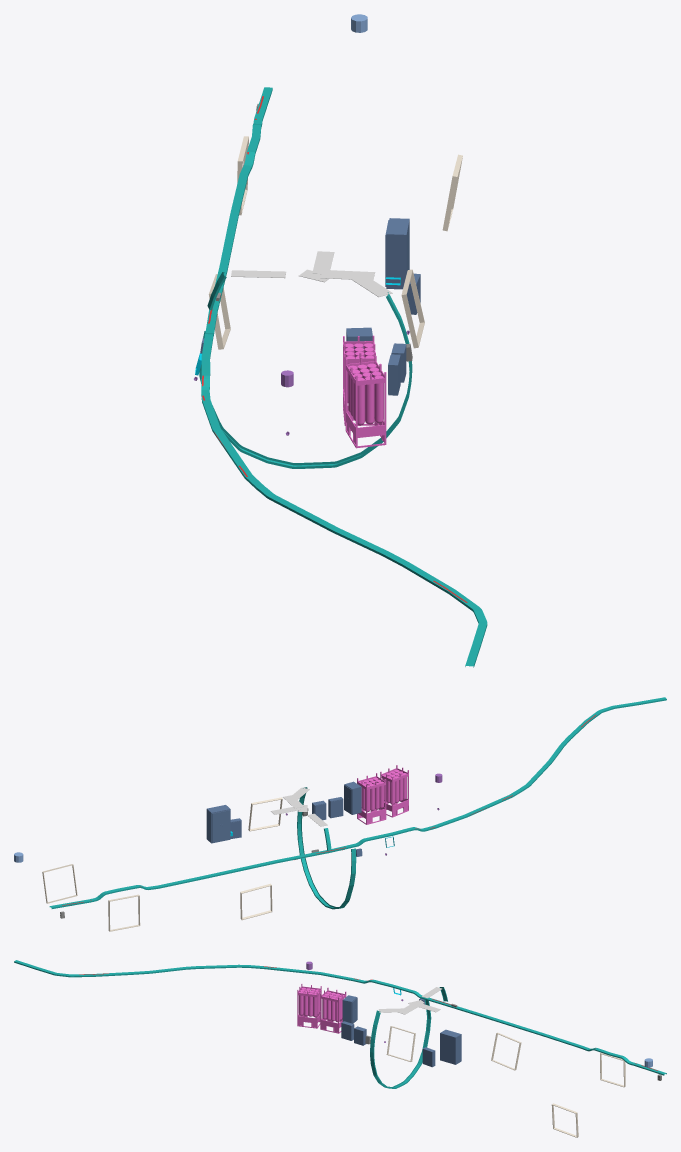
The model's file is tile_467.glb.
3 views of the same model, one above another, from view 1: azimuth 30°, elevation 25°; view 2: azimuth 150°, elevation 25°; view 3: azimuth 270°, elevation 25° (orthographic). The views are drawn at different scales.
Bounding box in the file's own units: 15.15 × 5.09 × 30.74.
